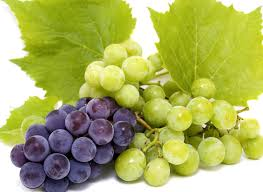Black grapes: (6, 101, 134, 191)
Green grapes: (130, 85, 263, 189), (78, 32, 153, 107)
